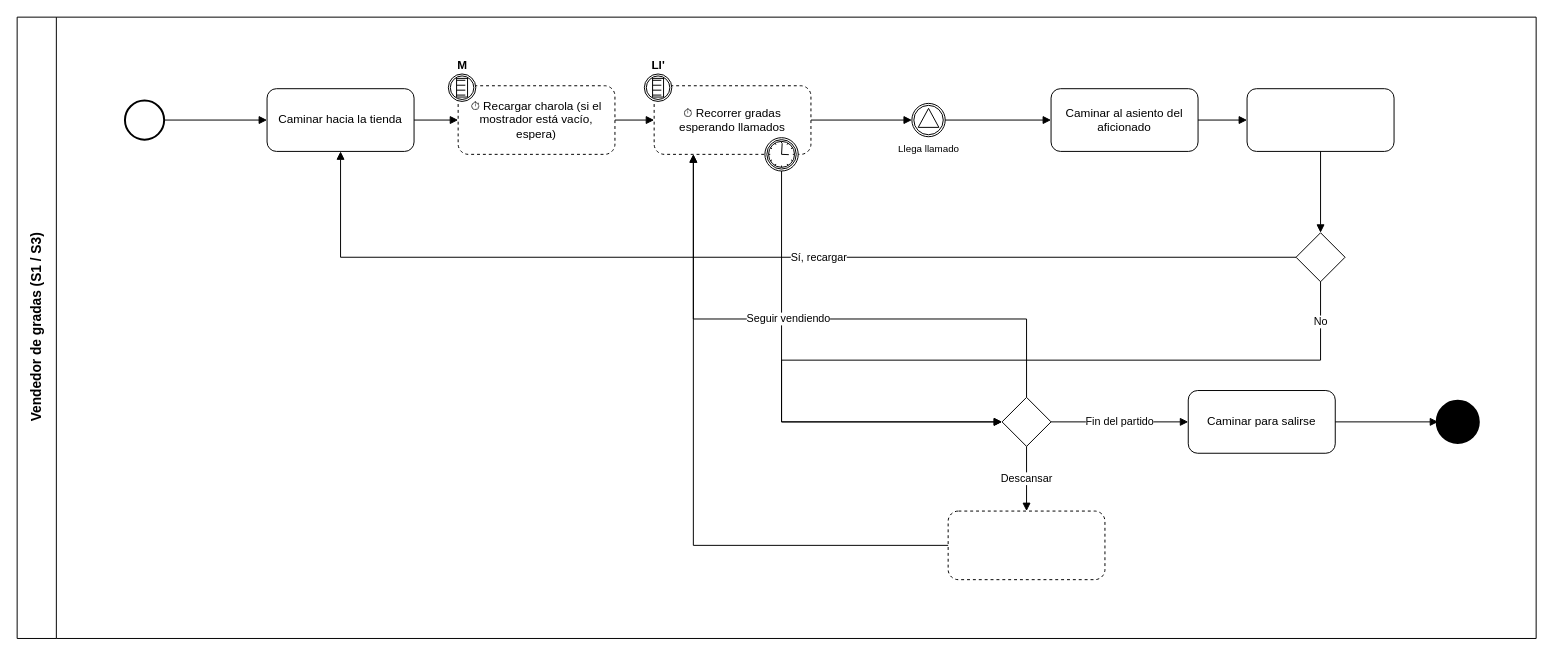
Some shapes in this 1553 by 656 pixel diagram are drawn without their labels. Each missing label, with the centre of its shape:
"Sin llamados" belongs at (781,154).
"Vender y notificar al aficionado" belongs at (1320,119).
"Zona de decisión" belongs at (1026,421).
"¿Charola vacía?" belongs at (1320,257).
"⏱ Tomar un descanso" belongs at (1026,545).
